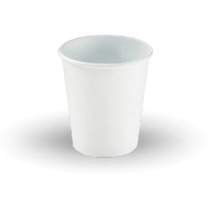paper_cup: (51, 27, 157, 160)
